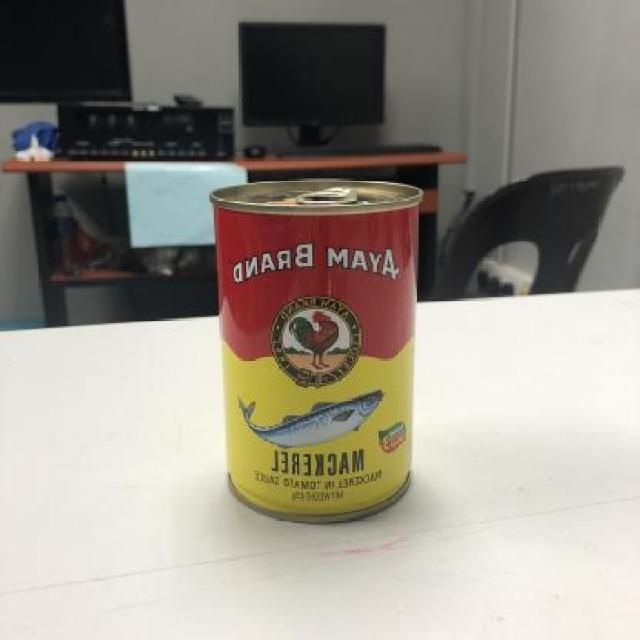metal: (207, 180, 421, 525)
